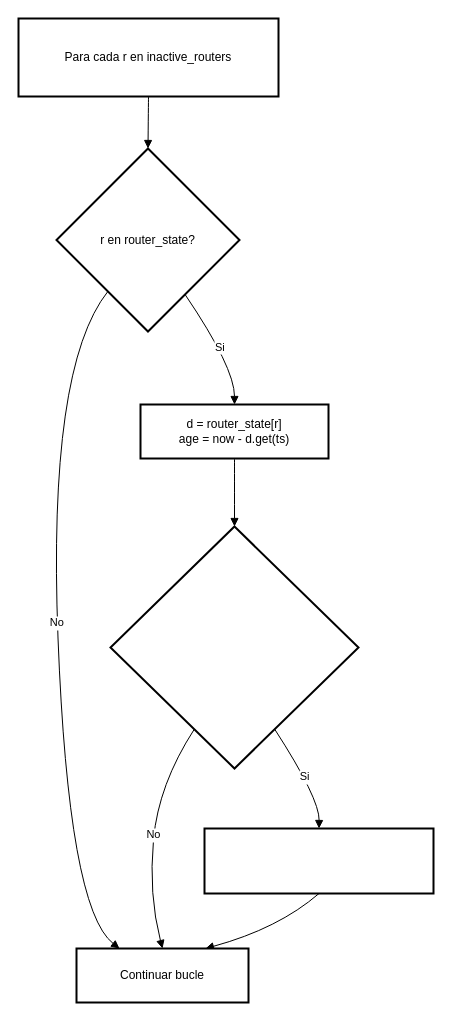
Image size: 451x1020. Some labels were removed from this diagram. The centre of each missing label's shape, as x and y in pixels:
age menor igual NODE_TIMEOUT?: (234,647)
nodes_to_restore.append(r) metrics.nodes_restored++ Log nodo r vuelto activo: (318,860)
